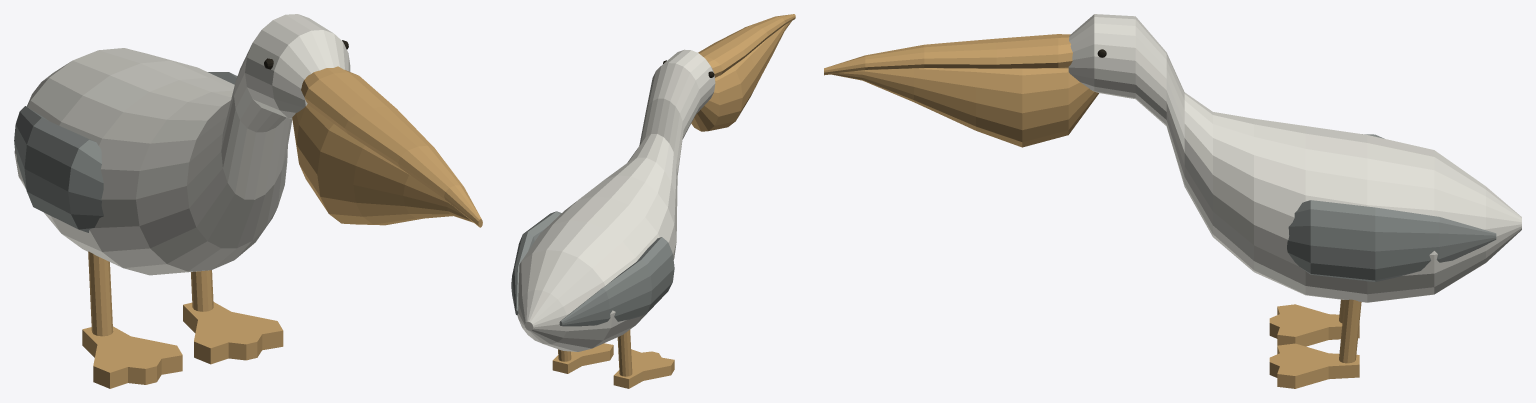
3 views of the same model, side by side, from view 1: azimuth 30°, elevation 25°; view 2: azimuth 150°, elevation 25°; view 3: azimuth 270°, elevation 25° (orthographic). The views are drawn at different scales.
Parts seen in each view (by area): view 1: WholeDeepBodyCurvedNeckAndSmallHead, WholeDeepSaggingLowerThroatPouch, WholeVeryLongTaperedUpperBill, WholeLongFoldedWing0, WholeBroadWebbedFoot1, WholeBroadWebbedFoot0, WholeShortLeg0, WholeShortLeg1; view 2: WholeDeepBodyCurvedNeckAndSmallHead, WholeLongFoldedWing0, WholeDeepSaggingLowerThroatPouch, WholeVeryLongTaperedUpperBill, WholeBroadWebbedFoot0, WholeLongFoldedWing1, WholeBroadWebbedFoot1, WholeShortLeg0; view 3: WholeDeepBodyCurvedNeckAndSmallHead, WholeDeepSaggingLowerThroatPouch, WholeLongFoldedWing1, WholeVeryLongTaperedUpperBill, WholeBroadWebbedFoot1, WholeBroadWebbedFoot0, WholeShortLeg1.
Boxes of the visible parts, x1,y1,x2,y2 form: WholeDeepBodyCurvedNeckAndSmallHead: (14,14,350,275); WholeDeepSaggingLowerThroatPouch: (292,104,473,225); WholeVeryLongTaperedUpperBill: (301,66,482,227); WholeLongFoldedWing0: (14,106,103,232); WholeBroadWebbedFoot1: (183,302,283,364); WholeBroadWebbedFoot0: (82,326,182,388); WholeShortLeg0: (88,251,113,336); WholeShortLeg1: (191,270,213,311); WholeDeepBodyCurvedNeckAndSmallHead: (517,49,715,351); WholeLongFoldedWing0: (559,237,674,326); WholeDeepSaggingLowerThroatPouch: (691,21,791,131); WholeVeryLongTaperedUpperBill: (698,14,795,77); WholeBroadWebbedFoot0: (613,349,674,388); WholeLongFoldedWing1: (511,211,561,314); WholeBroadWebbedFoot1: (552,343,613,373); WholeShortLeg0: (617,330,632,376); WholeDeepBodyCurvedNeckAndSmallHead: (1068,14,1521,302); WholeDeepSaggingLowerThroatPouch: (831,68,1099,147); WholeLongFoldedWing1: (1287,200,1496,281); WholeVeryLongTaperedUpperBill: (824,34,1072,75); WholeBroadWebbedFoot1: (1269,343,1359,388); WholeBroadWebbedFoot0: (1269,304,1359,346); WholeShortLeg1: (1339,299,1361,363).
Size of the model in its own units: 0.794 by 1.44 by 2.71.
